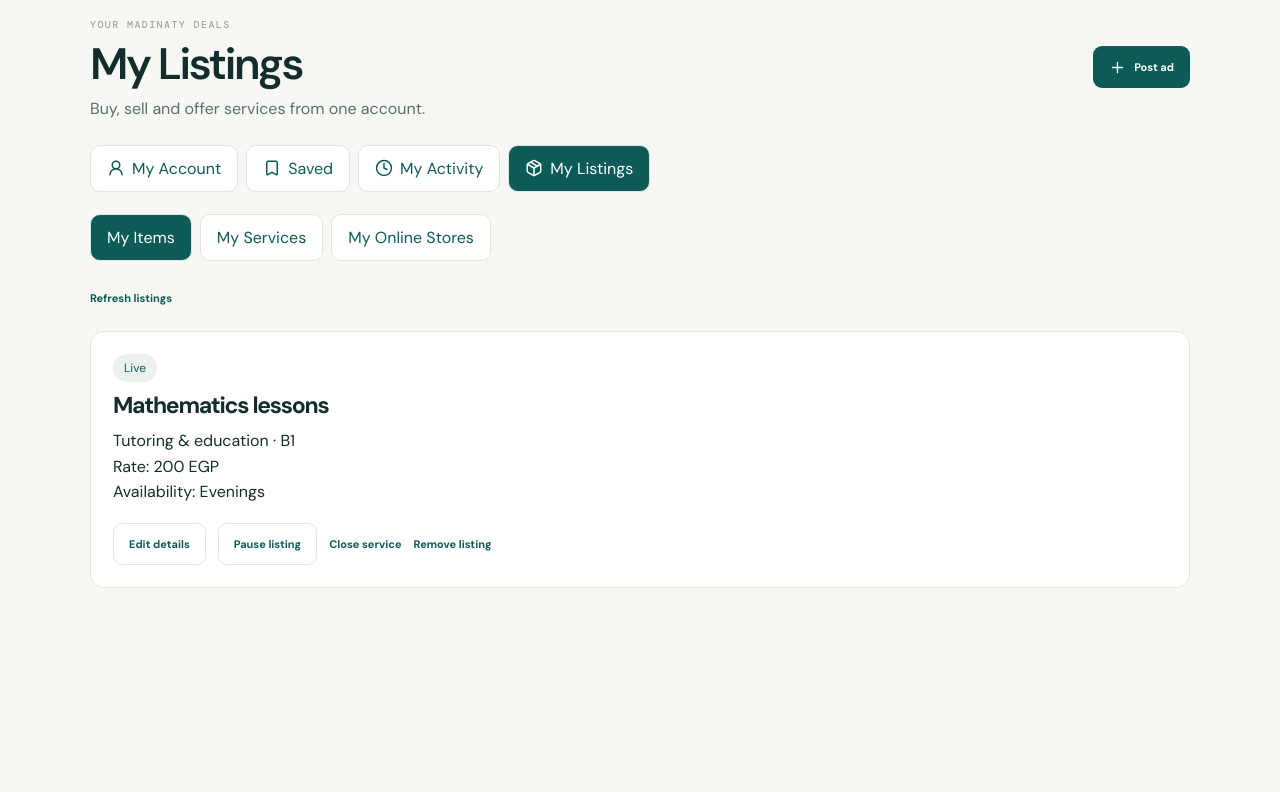
flags forbidden links in the editing form without sending them
Click the button "Edit details": (159, 544) [113,523,206,565]
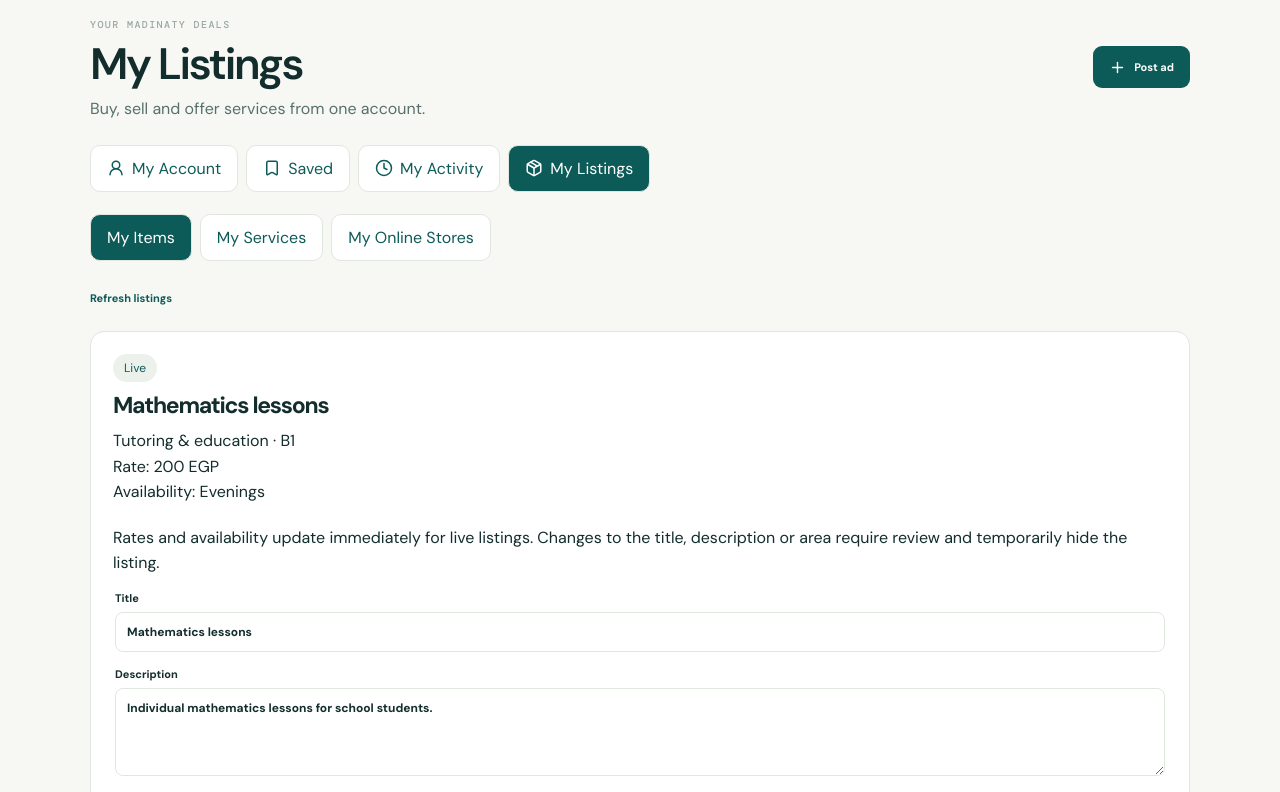
Replace the text in the text box labelled "Description" with "Find my classes at https://example.com": (640, 732) [115,688,1165,776]
(page scrolled)
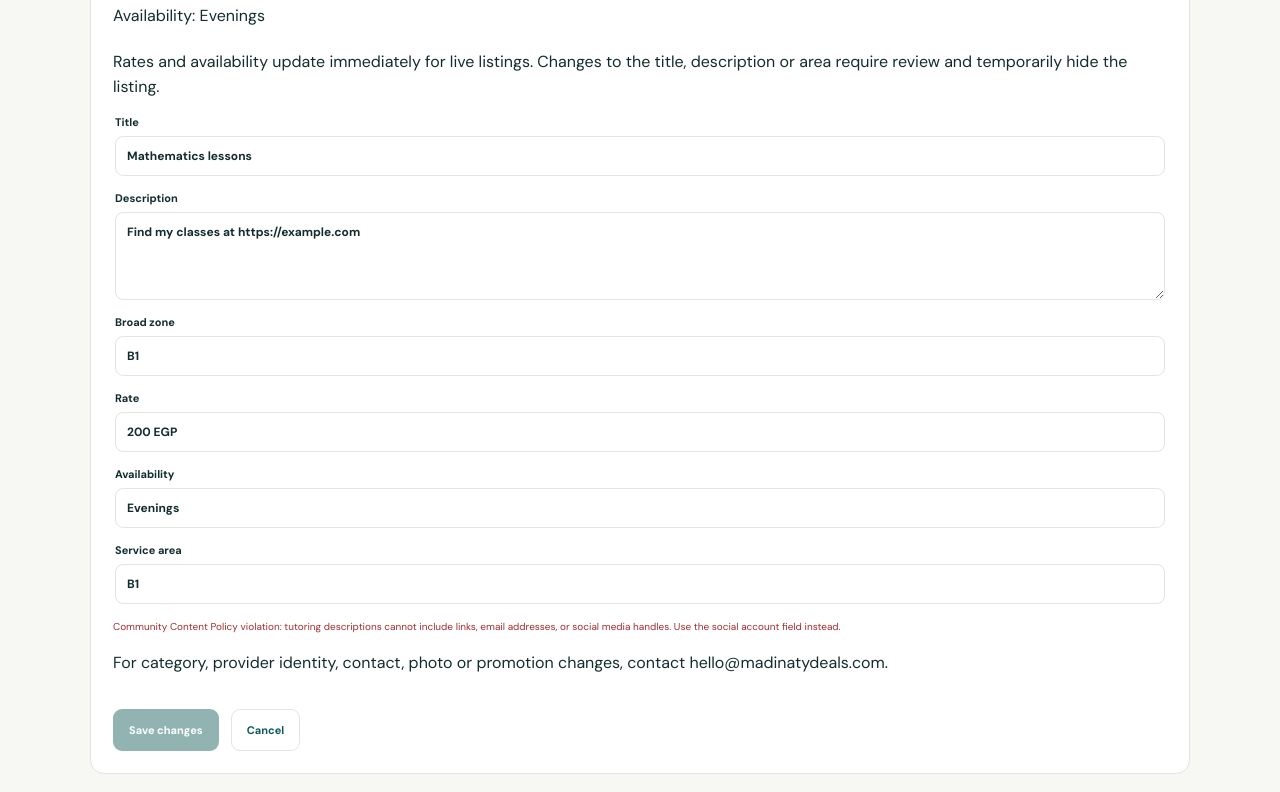
Expected: the message shows "Community Content Policy violation", [113,620,841,633]
Expected: the button "Save changes" is disabled, [113,709,219,751]
